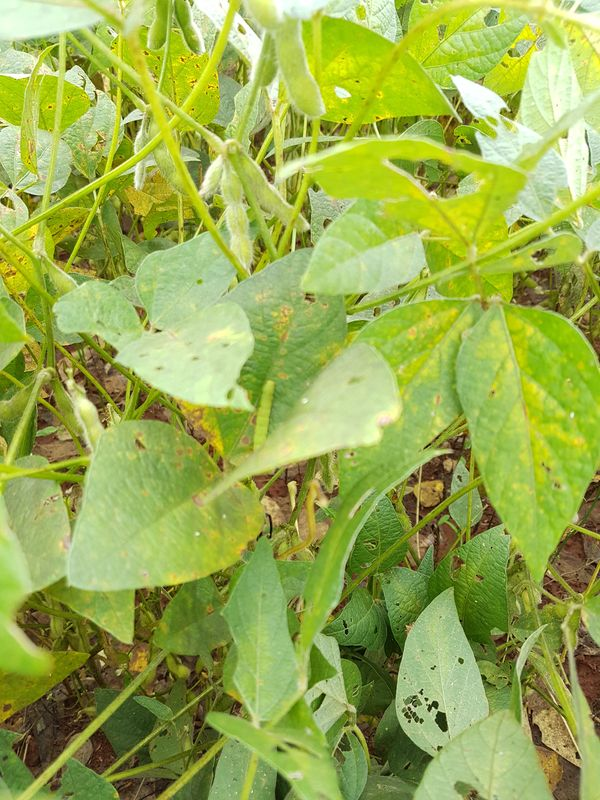Anticarsia_gemmatalis: (231, 373, 301, 470)
